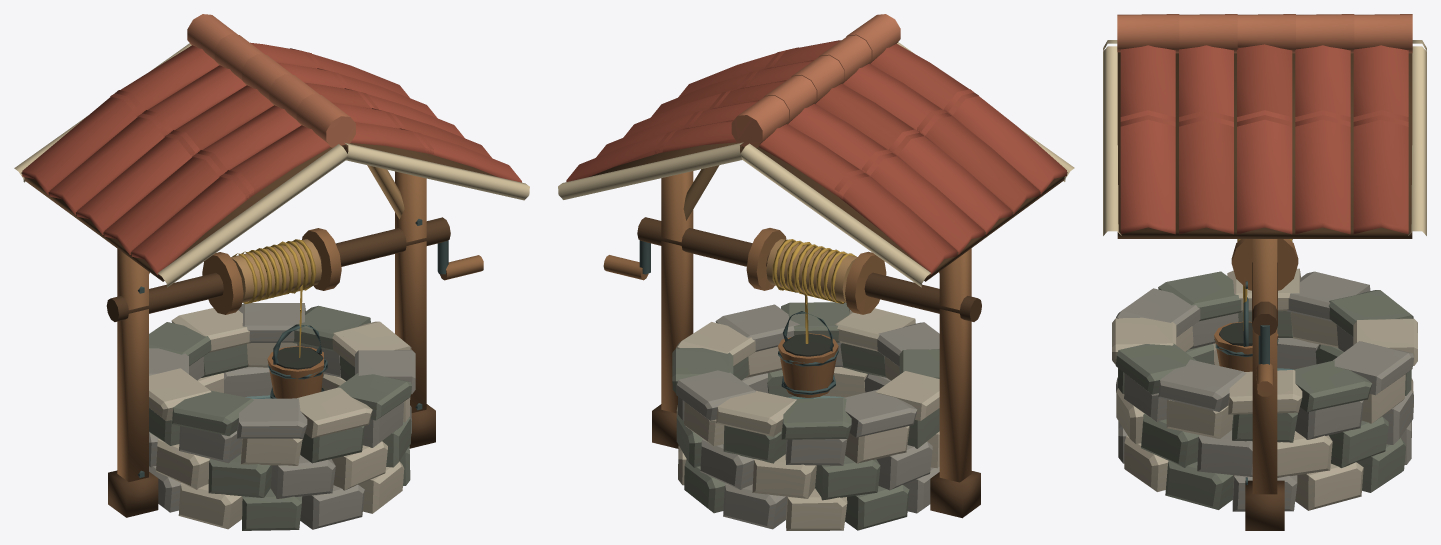
The model's file is pozo_lod.glb.
3 views of the same model, side by side, from view 1: azimuth 30°, elevation 25°; view 2: azimuth 150°, elevation 25°; view 3: azimuth 270°, elevation 25° (orthographic). The views are drawn at different scales.
Visible parts, largest first — view 1: pozo, pz_manivela; view 2: pozo, pz_manivela; view 3: pozo, pz_manivela.
Boxes of the visible parts, left/top/right/bottom form: pozo: left=14, top=14, right=529, bottom=530; pz_manivela: left=106, top=217, right=483, bottom=321; pozo: left=558, top=14, right=1074, bottom=530; pz_manivela: left=603, top=217, right=981, bottom=321; pozo: left=1103, top=14, right=1426, bottom=530; pz_manivela: left=1231, top=239, right=1298, bottom=396.
Bounding box in the file's own units: 2.32 × 2.32 × 1.56.
